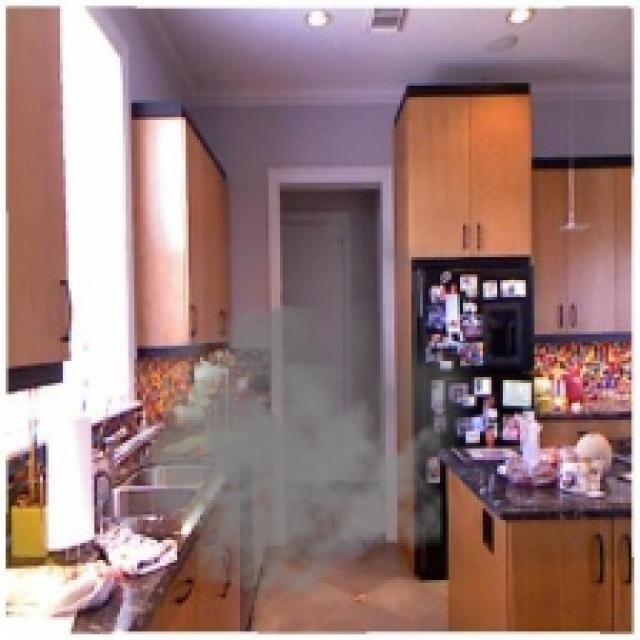smoke: (120, 197, 486, 609)
